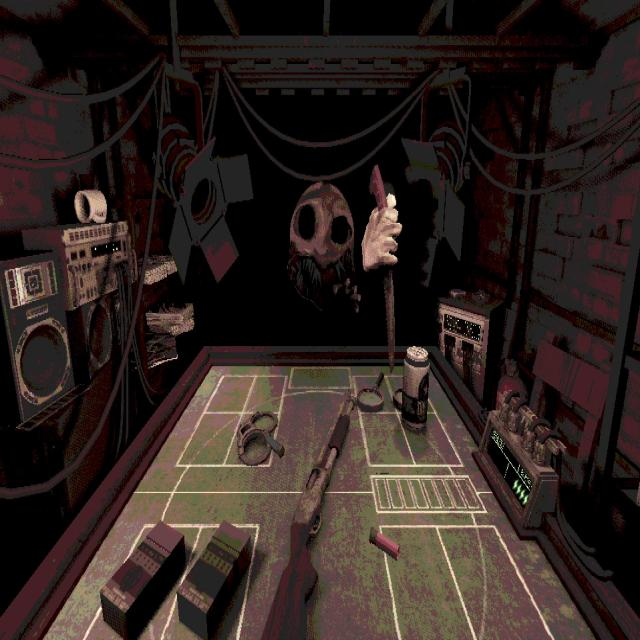can: (400, 346, 428, 427)
cigar: (98, 520, 186, 639), (178, 517, 253, 639)
handcuff: (237, 409, 277, 461)
lens: (357, 373, 387, 406)
